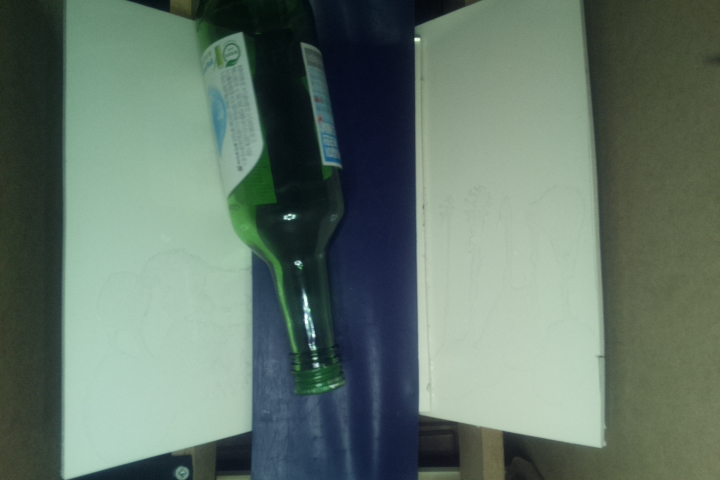soju: (192, 1, 358, 394)
